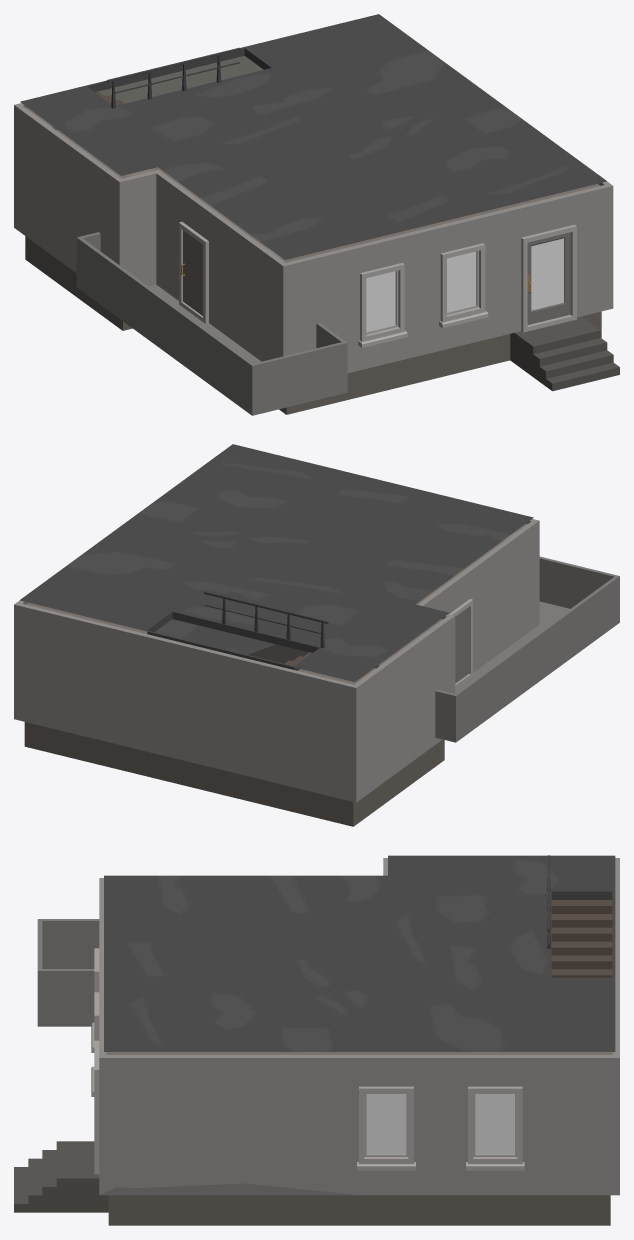
Rendered from SM_Bldg_City_Commercial_09_Base.fbx.
3 views of the same model, one above another, from view 1: azimuth 30°, elevation 25°; view 2: azimuth 150°, elevation 25°; view 3: azimuth 270°, elevation 25° (orthographic). The views are drawn at different scales.
Parts seen in each view (by area): view 1: SM_Bldg_City_Commercial_09_Base, SM_Bldg_City_Commercial_09_Base_Glass; view 2: SM_Bldg_City_Commercial_09_Base; view 3: SM_Bldg_City_Commercial_09_Base, SM_Bldg_City_Commercial_09_Base_Glass.
Part boxes in pixels (x1=…): SM_Bldg_City_Commercial_09_Base: x1=14, y1=14, x2=619, y2=415; SM_Bldg_City_Commercial_09_Base_Glass: x1=366, y1=251, x2=476, y2=331; SM_Bldg_City_Commercial_09_Base: x1=14, y1=444, x2=619, y2=826; SM_Bldg_City_Commercial_09_Base: x1=14, y1=855, x2=619, y2=1225; SM_Bldg_City_Commercial_09_Base_Glass: x1=366, y1=1094, x2=514, y2=1154.
Size of the model in its own units: 1077 by 485 by 1280.
